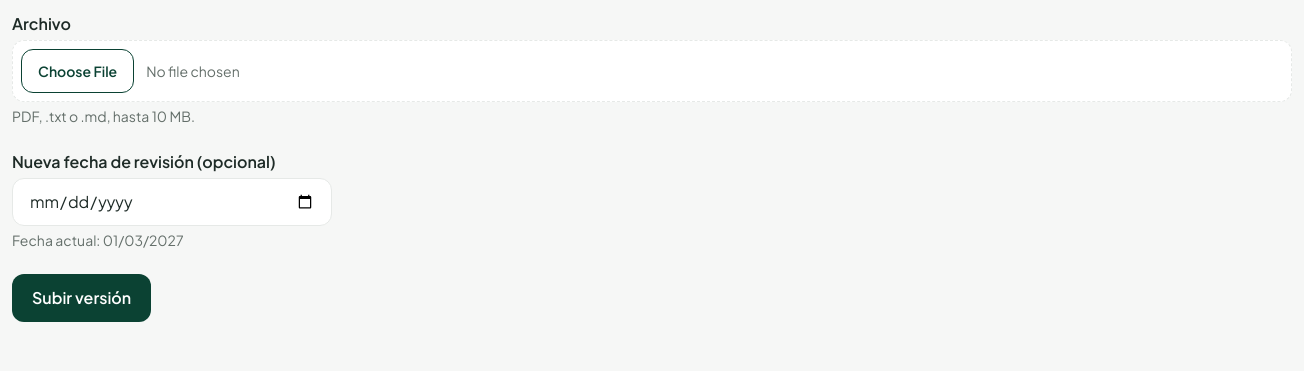
NewVersionForm (spec 003, R6 a R9; plan 003, 6.3) › sin archivo: "Elegí un archivo." y no envía
Click the button "Subir versión": (82, 298) left=12, top=274, right=151, bottom=322
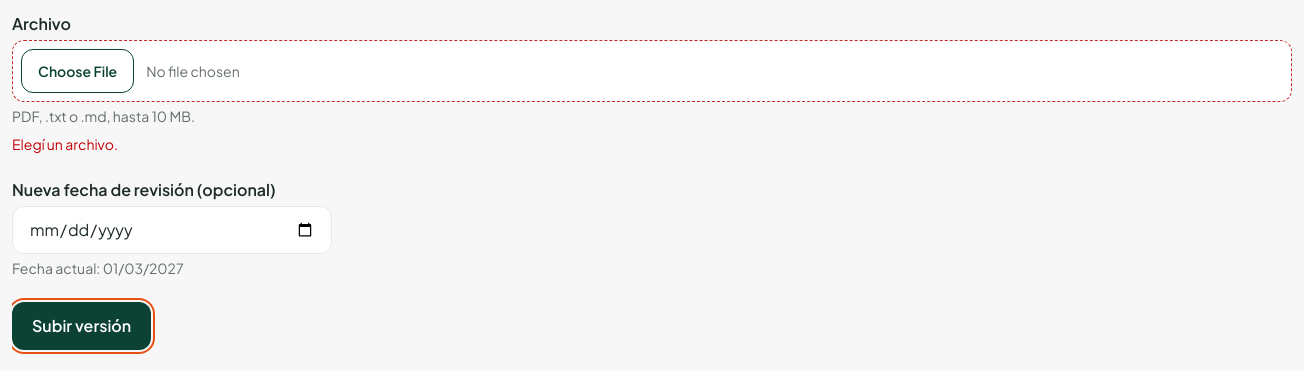
Check: the text "Elegí un archivo." is shown, box left=12, top=135, right=118, bottom=153
